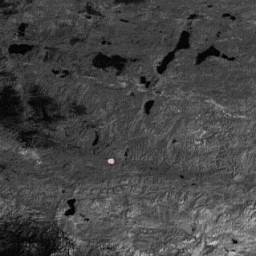Target: (105, 156, 116, 165)
